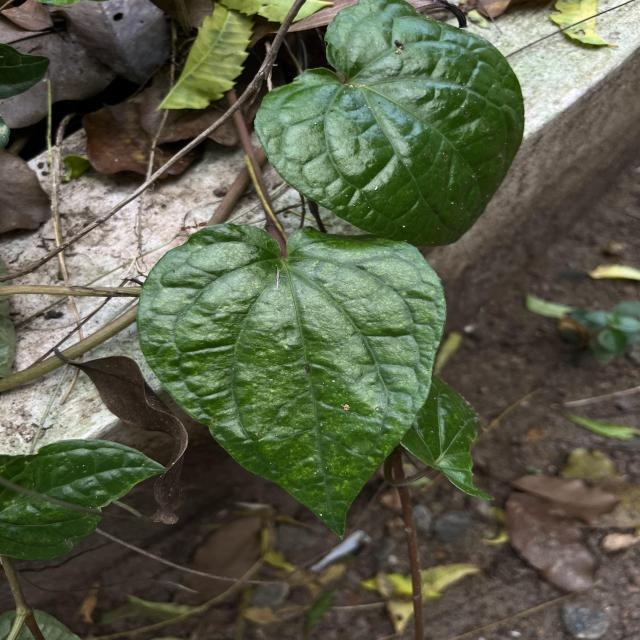Piper betle: (134, 219, 451, 543)
